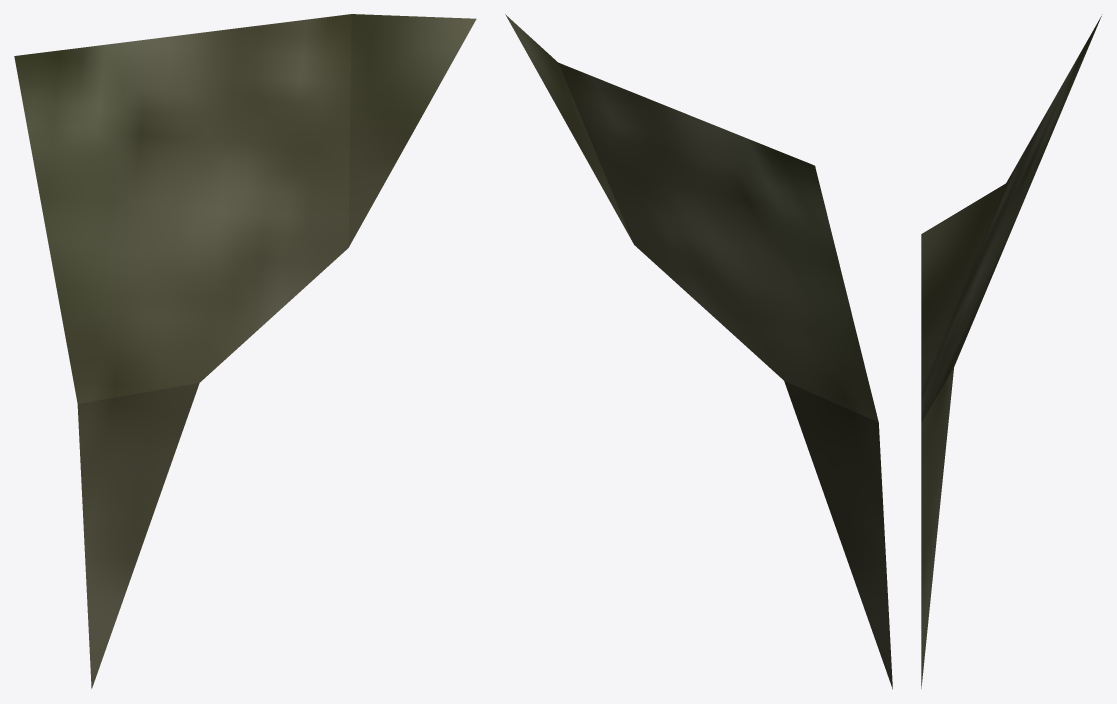
3 renders of one model, left to right at view 1: azimuth 30°, elevation 25°; view 2: azimuth 150°, elevation 25°; view 3: azimuth 270°, elevation 25°, orthographic. The views are drawn at different scales.
Bounding box in the file's own units: 0.2203 × 0.3155 × 0.0766.
Materials: 1 (1 with a texture image).
